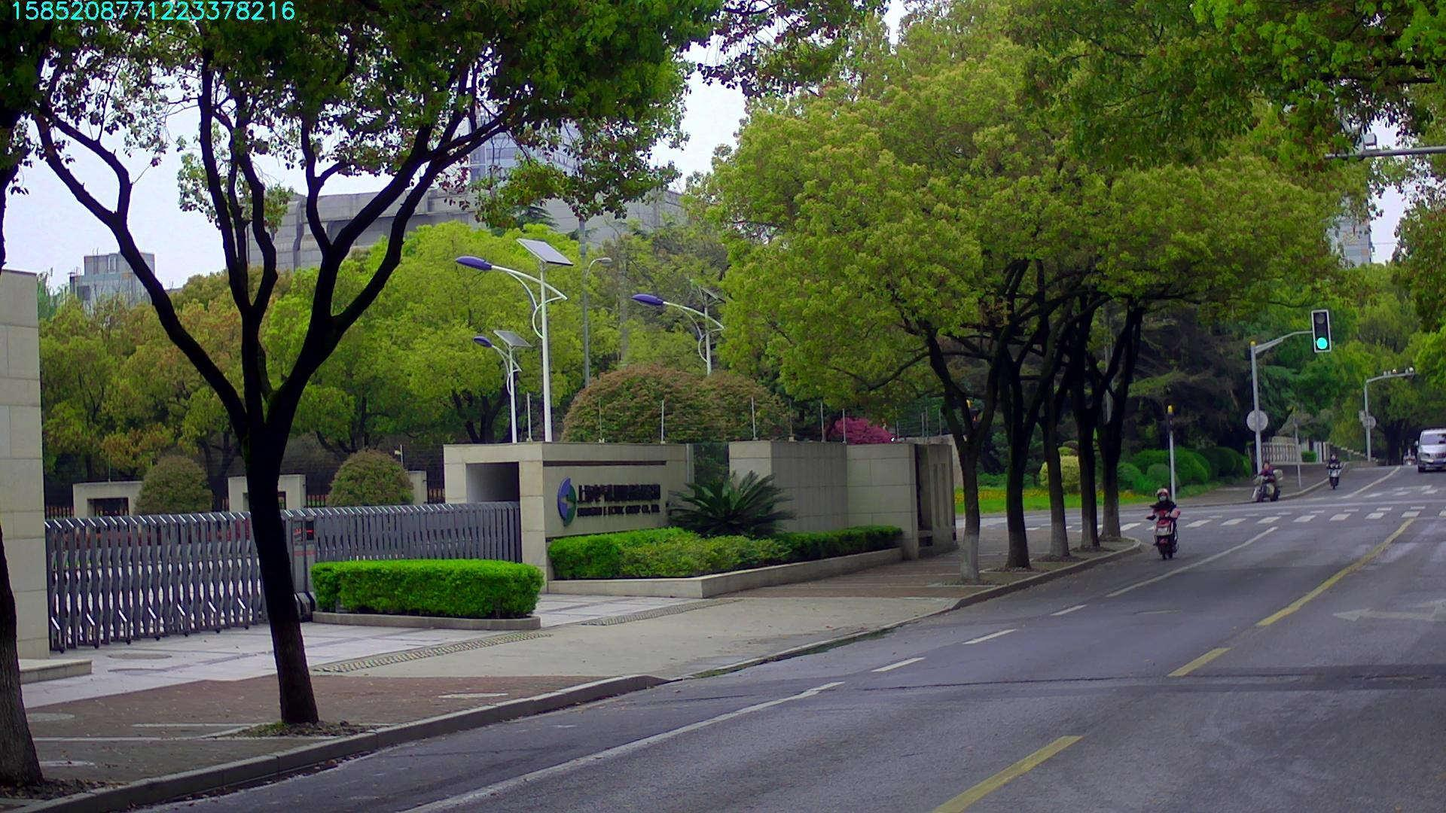green: (1312, 310, 1329, 350)
